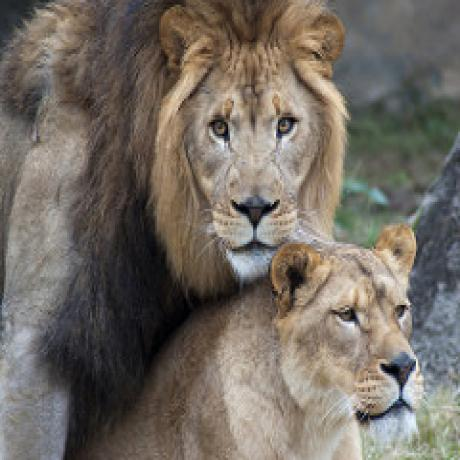Lion: (0, 0, 362, 357), (260, 223, 433, 460)
